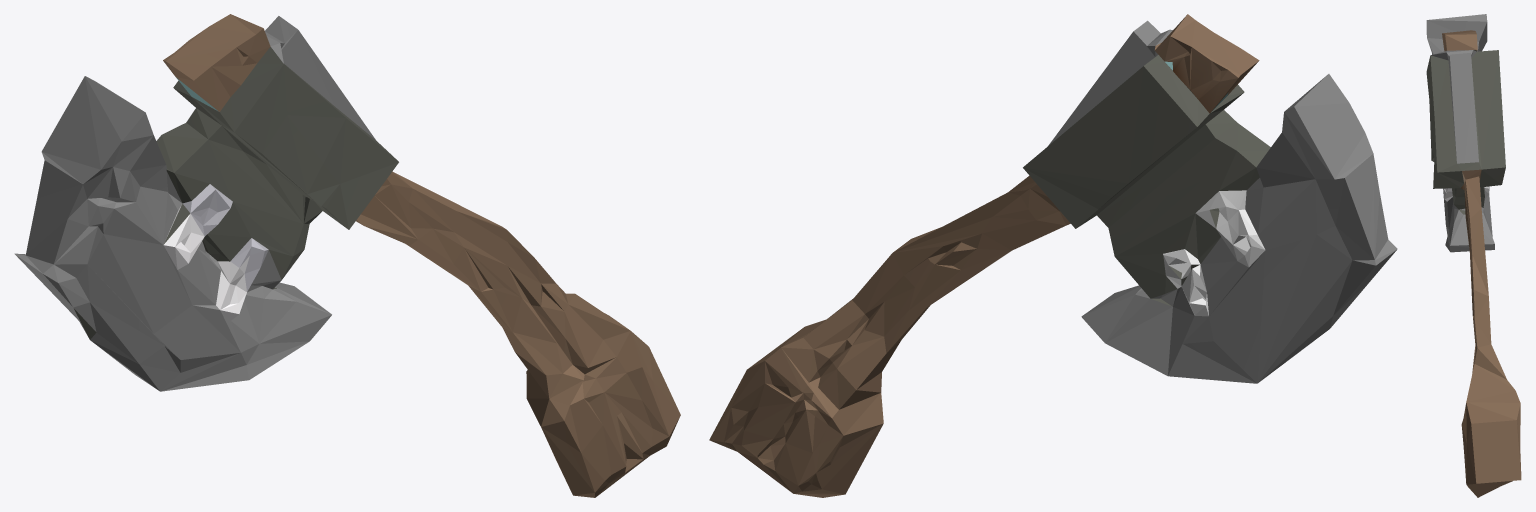
The model's file is Barbarian Axe.fbx.
3 renders of one model, left to right at view 1: azimuth 30°, elevation 25°; view 2: azimuth 150°, elevation 25°; view 3: azimuth 270°, elevation 25°, orthographic. The views are drawn at different scales.
Visible parts, largest first — view 1: Barbarian_Axe; view 2: Barbarian_Axe; view 3: Barbarian_Axe.
Part boxes in pixels (x1,y1,x2,y2): Barbarian_Axe: (14, 14, 680, 497); Barbarian_Axe: (709, 14, 1397, 497); Barbarian_Axe: (1426, 14, 1521, 497).
Size of the model in its own units: 0.8547 by 0.1715 by 0.706.
1 material, 1 textured.
